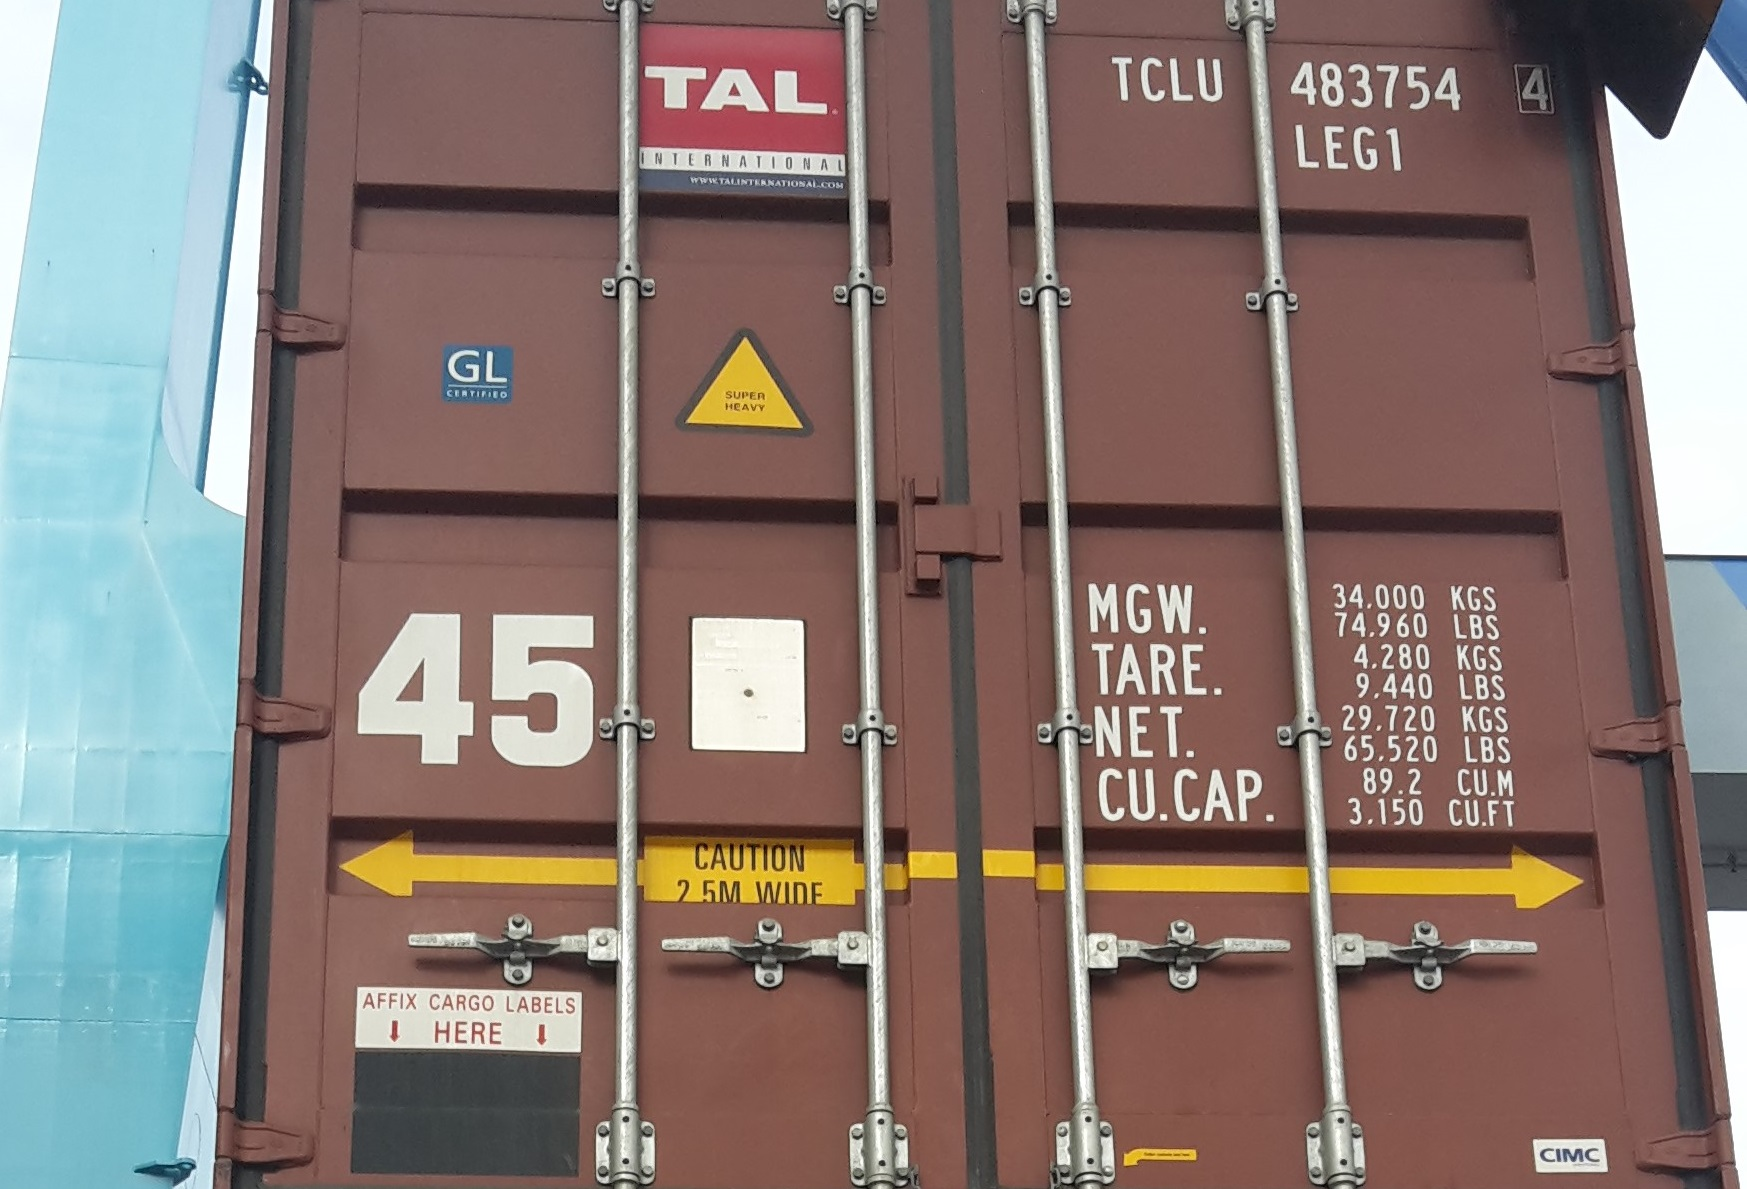container_door: (206, 1, 1718, 1178)
